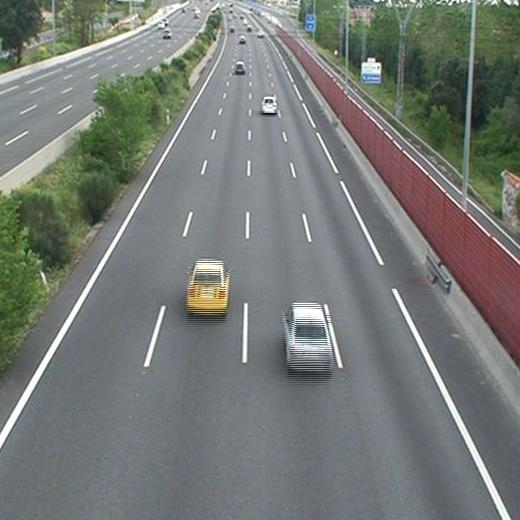car: (283, 303, 333, 371), (186, 260, 229, 313), (262, 96, 277, 113), (234, 62, 245, 73)
